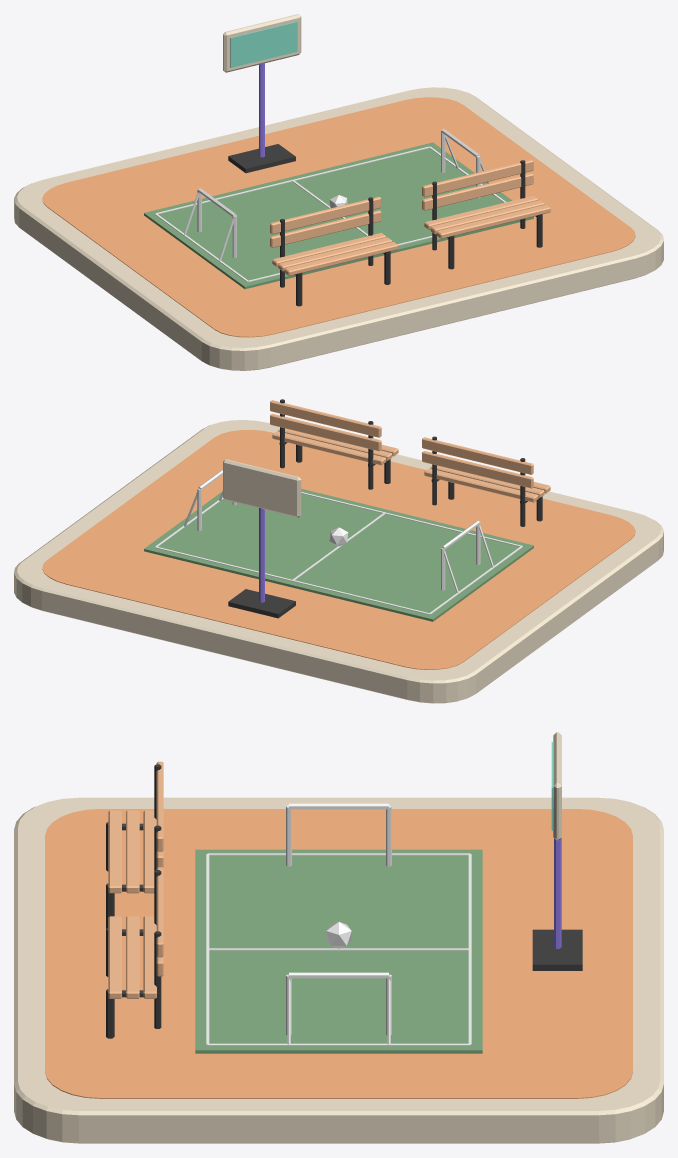
3 views of the same model, one above another, from view 1: azimuth 30°, elevation 25°; view 2: azimuth 150°, elevation 25°; view 3: azimuth 270°, elevation 25° (orthographic). The views are drawn at different scales.
Parts seen in each view (by area): view 1: COM-02 Floor Surface, COM-01 Rounded Base Direct, Court surface, Inset, Sign panel, Back slat, Back slat.001, Back slat.002, Back slat.003, Foot, Seat slat, Seat slat.003 (+6 smaller); view 2: COM-02 Floor Surface, COM-01 Rounded Base Direct, Court surface, Sign panel, Back slat.002, Back slat.003, Back slat.001, Back slat, Foot, Seat slat.002, Seat slat.005, Sideline.001 (+4 smaller); view 3: COM-02 Floor Surface, Court surface, COM-01 Rounded Base Direct, Foot, Seat slat, Seat slat.001, Seat slat.003, Seat slat.004, Seat slat.005, Seat slat.002, Sign panel, Stand (+9 smaller).
Boxes of the visible parts, left/top/right/bottom form: COM-02 Floor Surface: left=42, top=97, right=635, bottom=337; COM-01 Rounded Base Direct: left=14, top=87, right=663, bottom=370; Court surface: left=144, top=142, right=533, bottom=289; Inset: left=230, top=21, right=297, bottom=67; Sign panel: left=223, top=14, right=301, bottom=72; Back slat: left=270, top=210, right=381, bottom=247; Back slat.001: left=270, top=196, right=381, bottom=234; Back slat.002: left=422, top=173, right=533, bottom=210; Back slat.003: left=422, top=159, right=533, bottom=197; Foot: left=228, top=144, right=295, bottom=173; Seat slat: left=284, top=242, right=398, bottom=275; Seat slat.003: left=436, top=204, right=550, bottom=238; COM-02 Floor Surface: left=42, top=430, right=635, bottom=669; COM-01 Rounded Base Direct: left=14, top=420, right=663, bottom=703; Court surface: left=144, top=489, right=533, bottom=621; Sign panel: left=223, top=459, right=301, bottom=517; Back slat.002: left=270, top=413, right=381, bottom=451; Back slat.003: left=270, top=400, right=381, bottom=437; Back slat.001: left=422, top=437, right=533, bottom=474; Back slat: left=422, top=451, right=533, bottom=488; Foot: left=228, top=589, right=295, bottom=618; Seat slat.002: left=424, top=468, right=538, bottom=502; Seat slat.005: left=272, top=431, right=386, bottom=465; Sideline.001: left=155, top=547, right=429, bottom=614; COM-02 Floor Surface: left=45, top=809, right=632, bottom=1098; Court surface: left=195, top=849, right=482, bottom=1053; COM-01 Rounded Base Direct: left=14, top=797, right=663, bottom=1143; Foot: left=532, top=929, right=582, bottom=970; Seat slat: left=108, top=810, right=121, bottom=893; Seat slat.001: left=126, top=810, right=139, bottom=893; Seat slat.003: left=108, top=916, right=121, bottom=998; Seat slat.004: left=126, top=916, right=139, bottom=998; Seat slat.005: left=143, top=916, right=156, bottom=998; Seat slat.002: left=143, top=810, right=156, bottom=893; Sign panel: left=553, top=732, right=561, bottom=840; Stand: left=554, top=838, right=561, bottom=948.
Bounding box in the file's own units: 6 × 2.02 × 5.2.
Materials: 1 (1 with a texture image).
